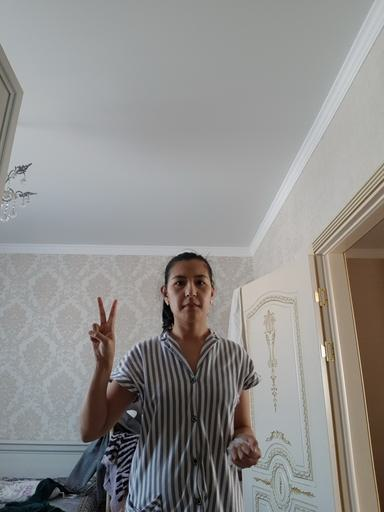peace: (87, 295, 121, 363)
